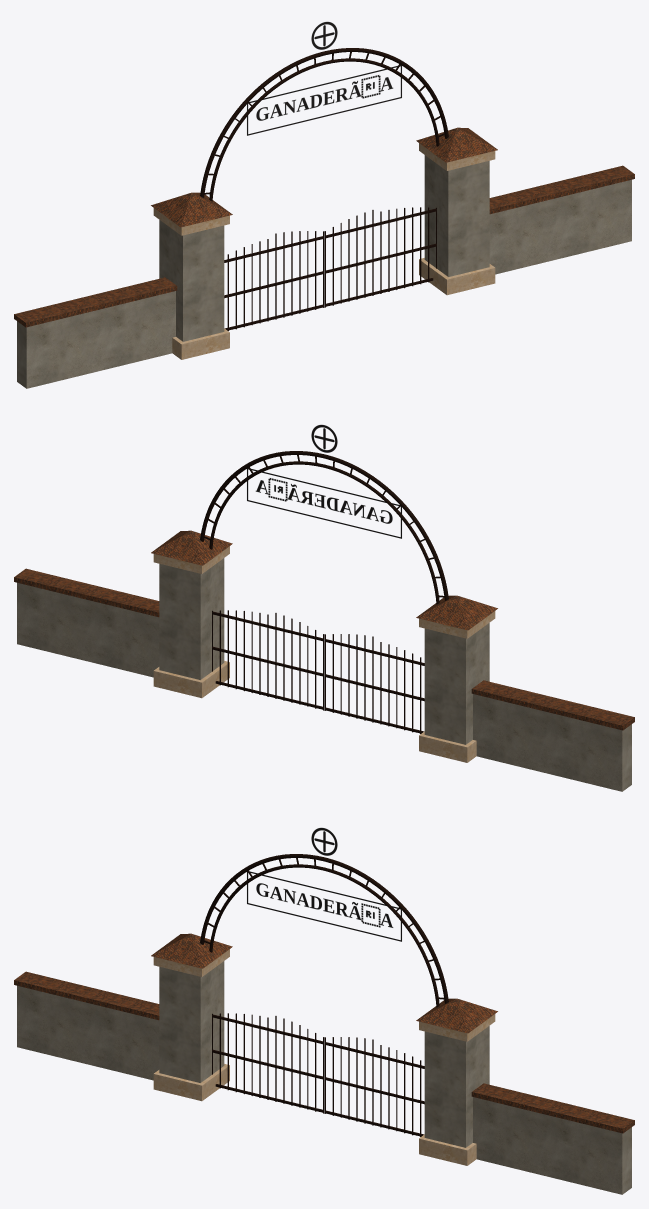
Rendered from portada.glb.
The picture shows the model from 3 angles, top to bottom: view 1: azimuth 30°, elevation 25°; view 2: azimuth 150°, elevation 25°; view 3: azimuth 330°, elevation 25°; orthographic projection.
Bounding box in the file's own units: 16.3 × 7.5 × 1.4.
6 materials, 6 textured.
